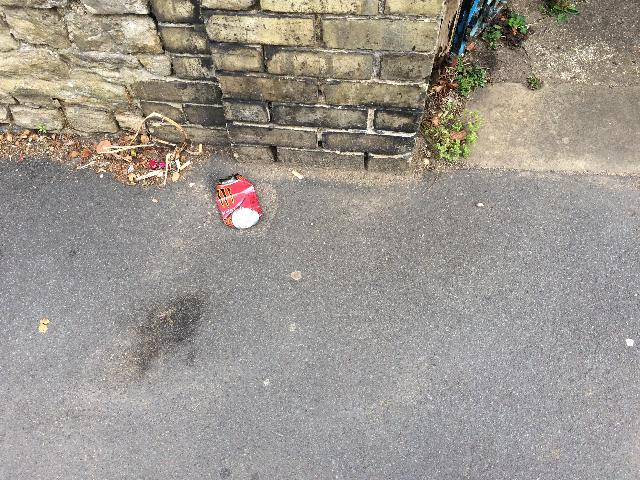metal: (216, 173, 262, 229)
